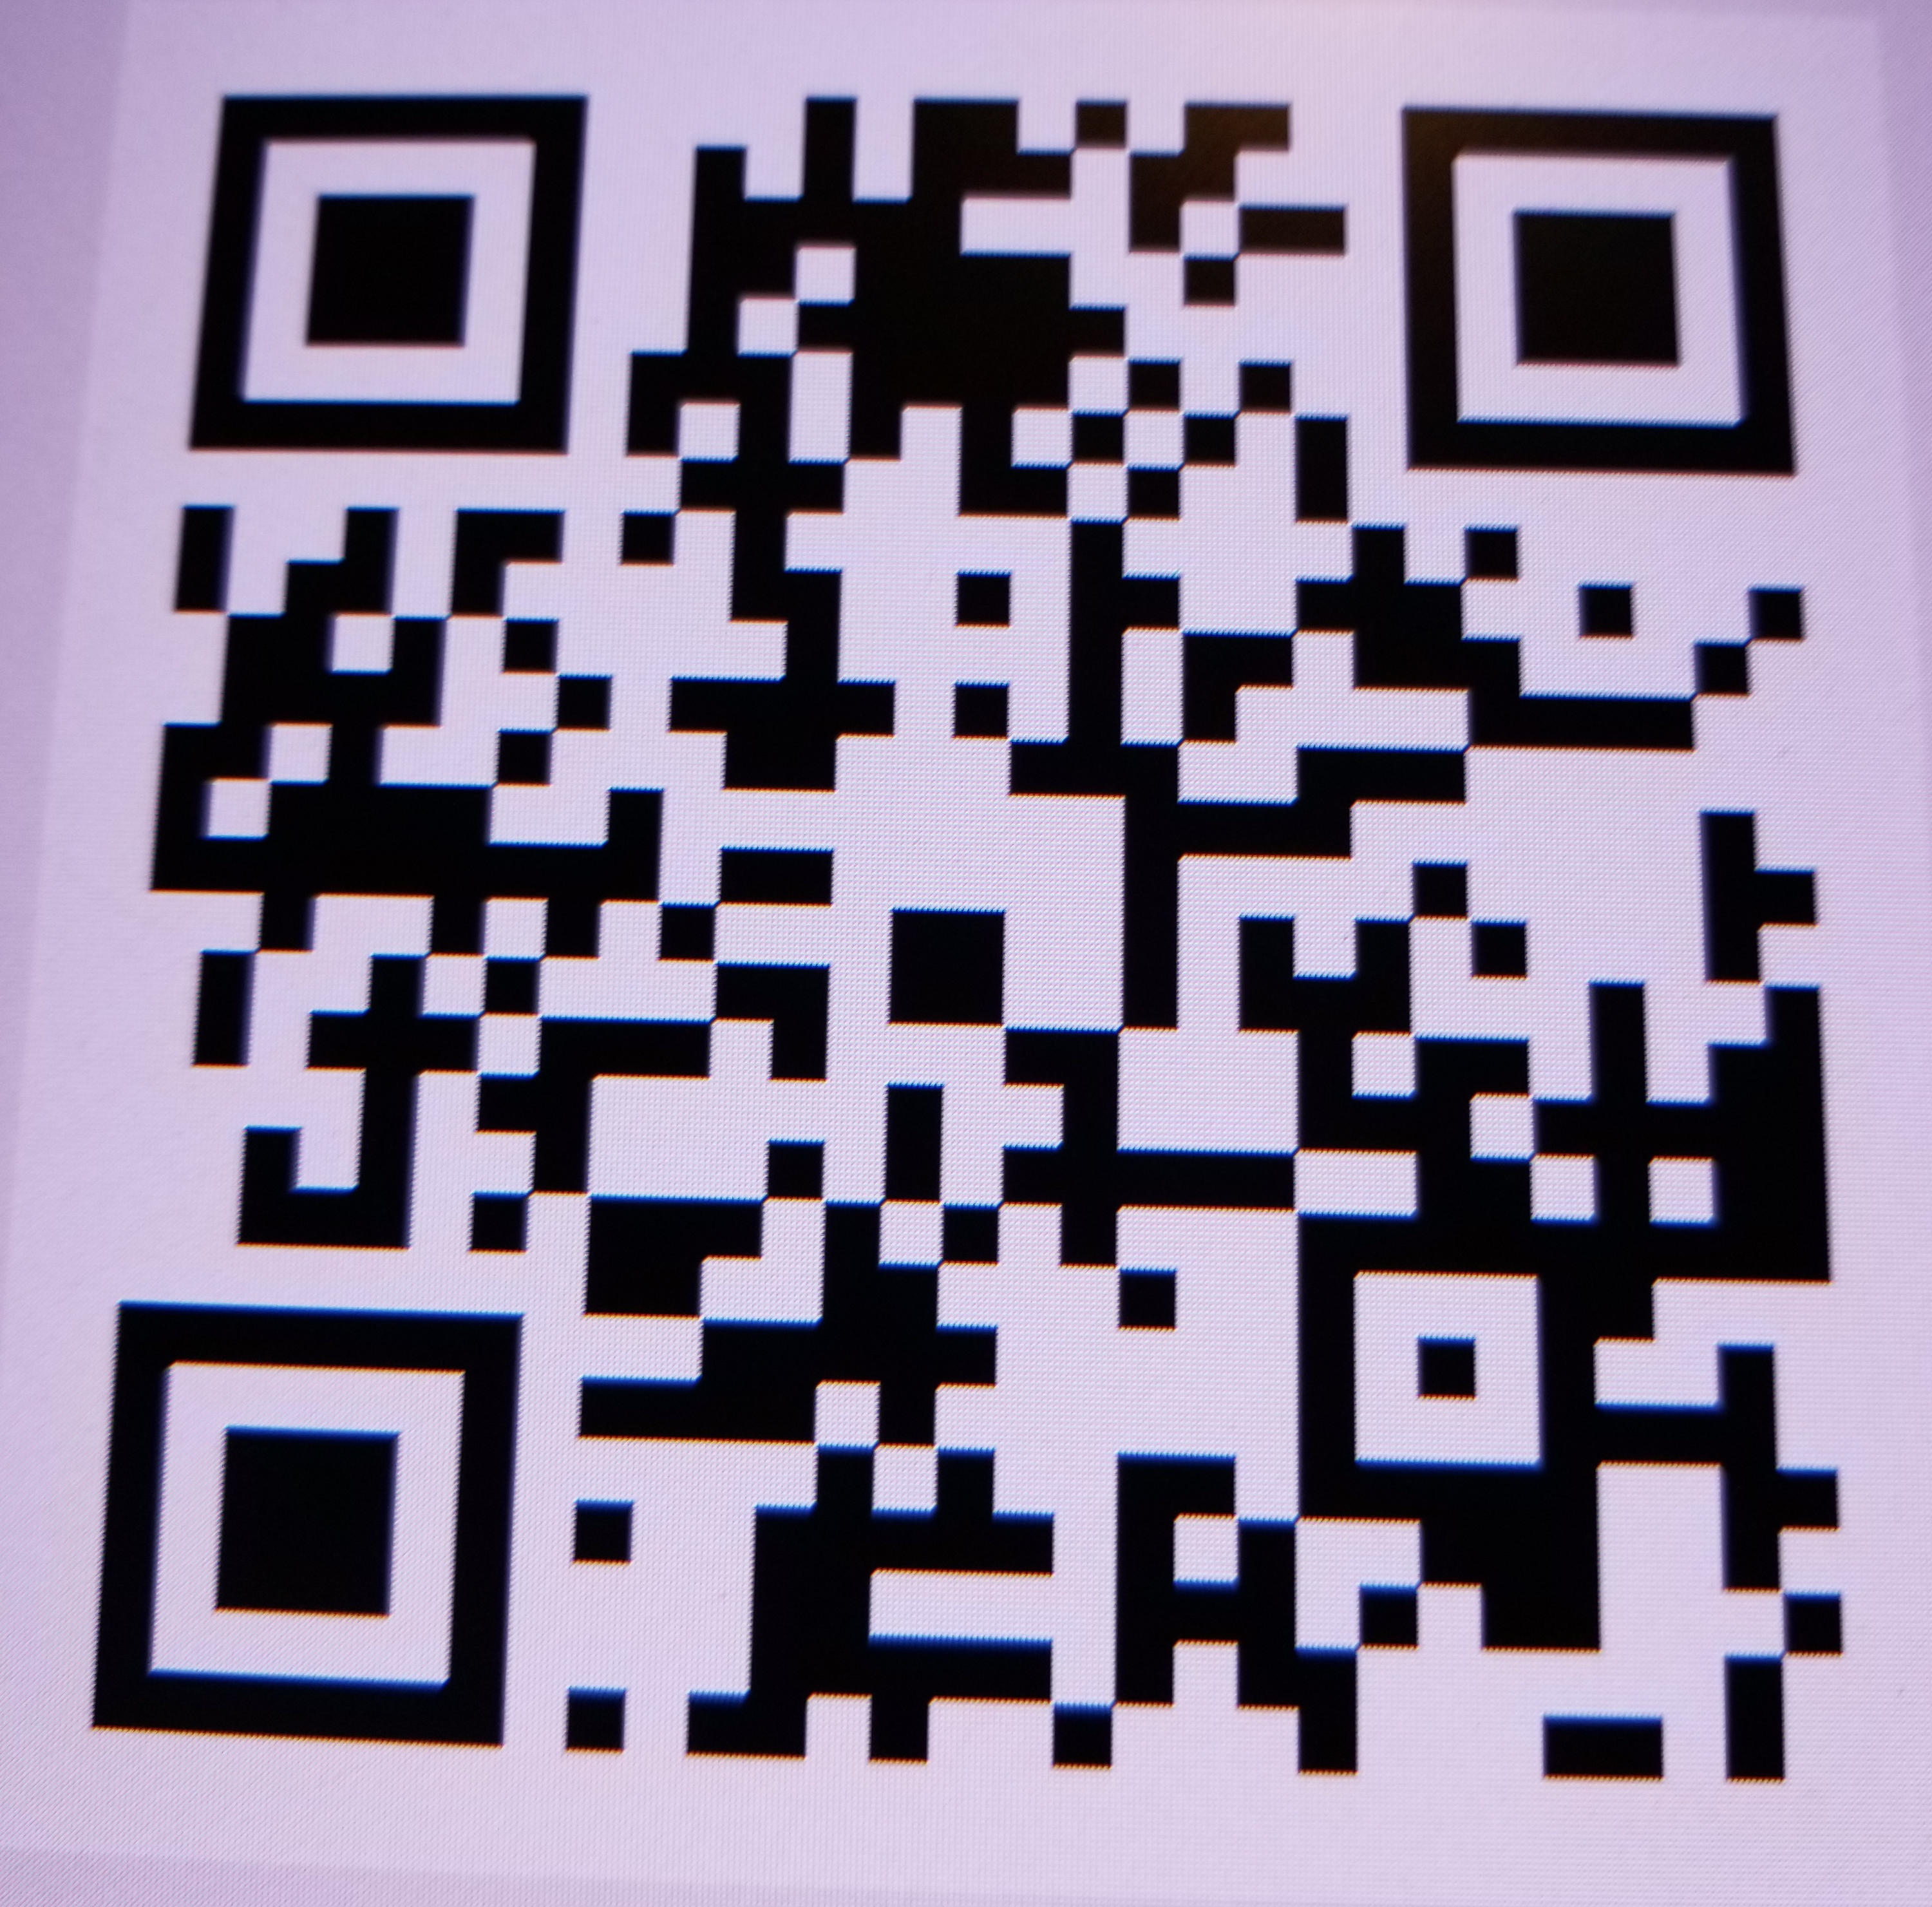QR_CODE: (54, 23, 1883, 1830)
